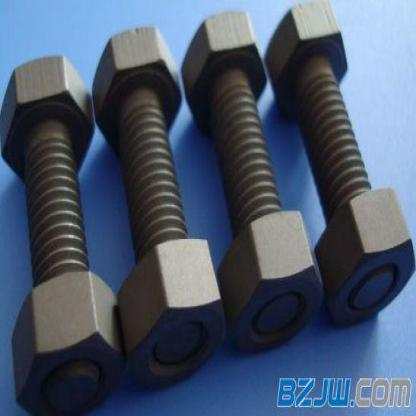FOD: (0, 49, 95, 274), (117, 237, 226, 390)
